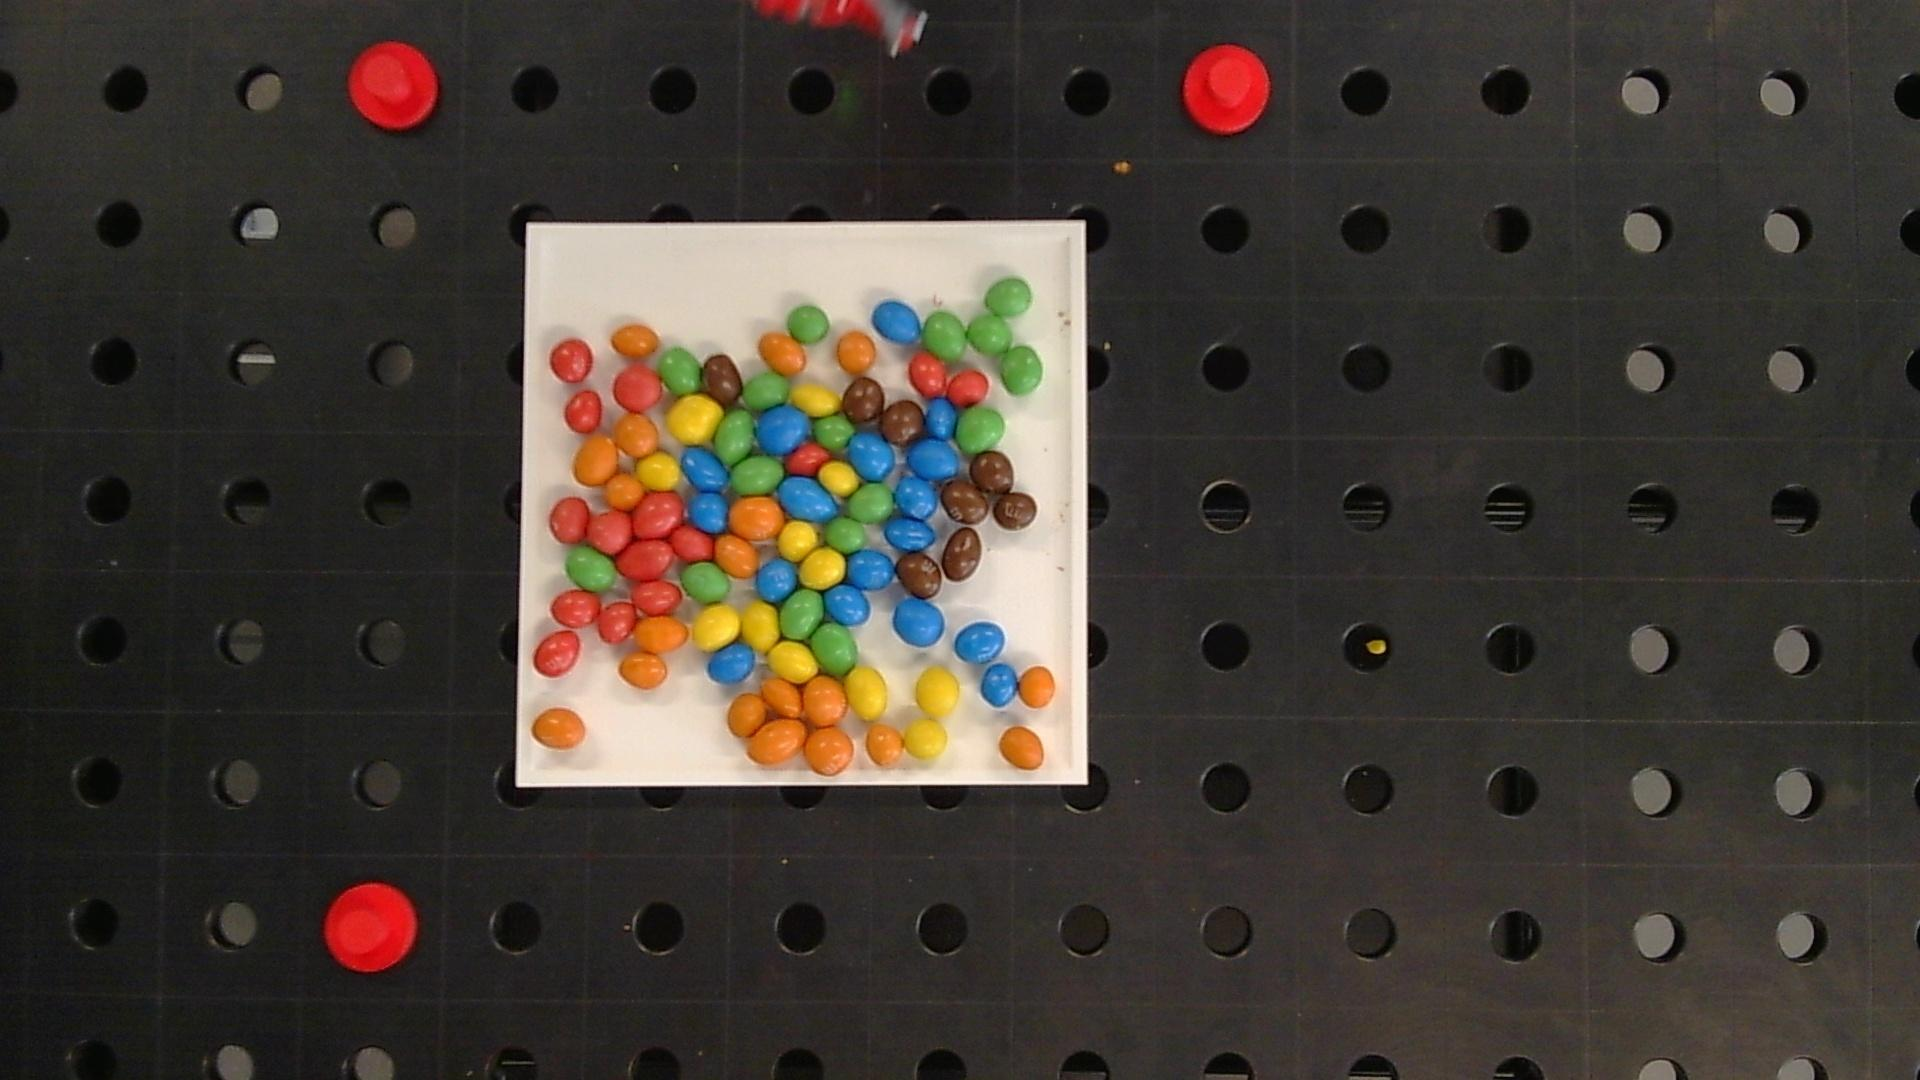blue: (886, 517, 942, 599), (778, 475, 839, 521), (893, 597, 945, 646), (757, 406, 811, 452), (907, 438, 959, 480), (955, 621, 1005, 663), (849, 434, 894, 480), (873, 301, 922, 343), (707, 642, 756, 683), (847, 550, 895, 589), (707, 644, 756, 683), (894, 476, 939, 518), (682, 448, 728, 489), (825, 585, 870, 625), (757, 559, 798, 601), (885, 517, 935, 551), (688, 491, 728, 531), (980, 665, 1018, 707), (924, 400, 957, 439)
brown: (942, 527, 982, 582), (897, 554, 942, 599), (943, 480, 988, 524), (703, 355, 742, 404), (881, 401, 924, 443), (971, 451, 1013, 495), (843, 377, 884, 421), (993, 492, 1038, 530)
green: (812, 624, 857, 674), (566, 547, 616, 591), (923, 311, 967, 360), (715, 410, 754, 463), (781, 589, 823, 638), (960, 407, 1005, 452), (1001, 347, 1043, 394), (682, 563, 731, 604), (732, 455, 783, 493), (659, 348, 702, 393), (967, 314, 1013, 353), (985, 278, 1033, 316), (848, 484, 894, 522), (742, 372, 790, 409), (787, 306, 829, 342), (825, 517, 866, 553), (814, 414, 853, 448)
orange: (746, 719, 806, 765), (804, 728, 855, 774), (731, 496, 783, 538), (531, 708, 587, 748), (574, 436, 618, 484), (803, 676, 847, 725), (758, 334, 807, 375), (1000, 727, 1044, 770), (634, 616, 688, 651), (715, 534, 758, 578), (615, 414, 657, 456), (620, 653, 667, 690), (865, 724, 905, 766), (728, 692, 766, 736), (611, 324, 659, 357), (1018, 666, 1056, 707), (837, 334, 876, 372), (762, 678, 802, 715), (605, 473, 645, 509)
red: (633, 493, 683, 537), (617, 541, 673, 579), (613, 367, 661, 410), (534, 632, 580, 675), (550, 339, 593, 382), (549, 497, 589, 542), (589, 510, 632, 553), (551, 591, 600, 626), (632, 580, 679, 613), (909, 353, 945, 396), (564, 390, 601, 433), (597, 603, 636, 642), (945, 371, 989, 405), (669, 526, 713, 559), (786, 443, 829, 475)
yellow: (669, 394, 721, 443), (845, 667, 887, 720), (915, 667, 960, 716), (692, 605, 740, 650), (770, 642, 818, 682), (800, 549, 845, 589), (741, 603, 778, 650), (903, 720, 947, 758), (637, 452, 680, 488), (778, 522, 819, 559), (791, 386, 840, 414), (819, 463, 858, 496)
